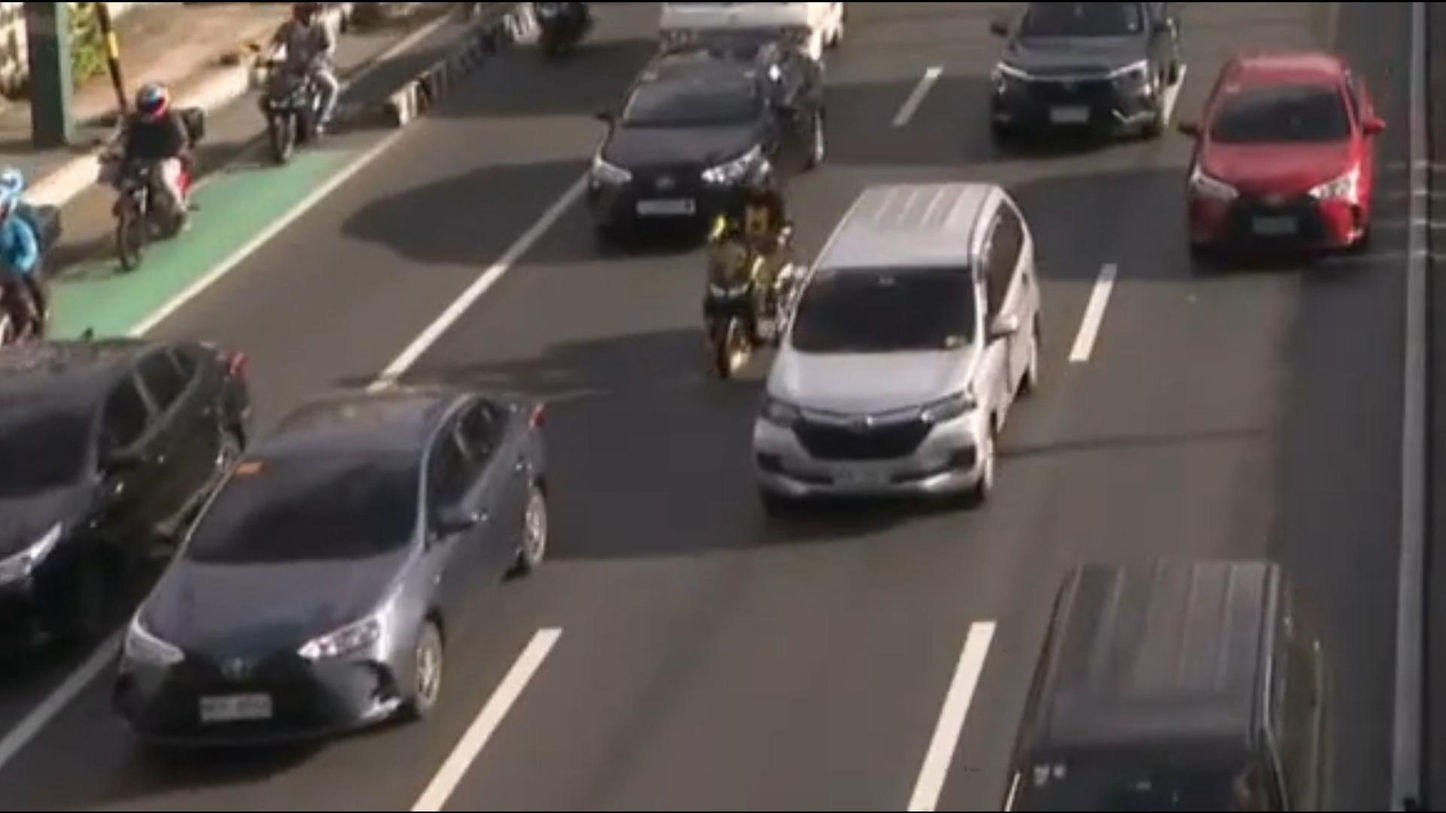Motorcycle: (697, 156, 795, 376), (245, 4, 354, 175), (105, 88, 203, 275), (0, 158, 66, 350)
SUV: (749, 186, 1045, 497), (992, 559, 1344, 813), (981, 0, 1196, 147)
Sedan: (109, 380, 557, 740), (0, 329, 256, 636), (582, 34, 830, 247), (1182, 60, 1376, 258)
